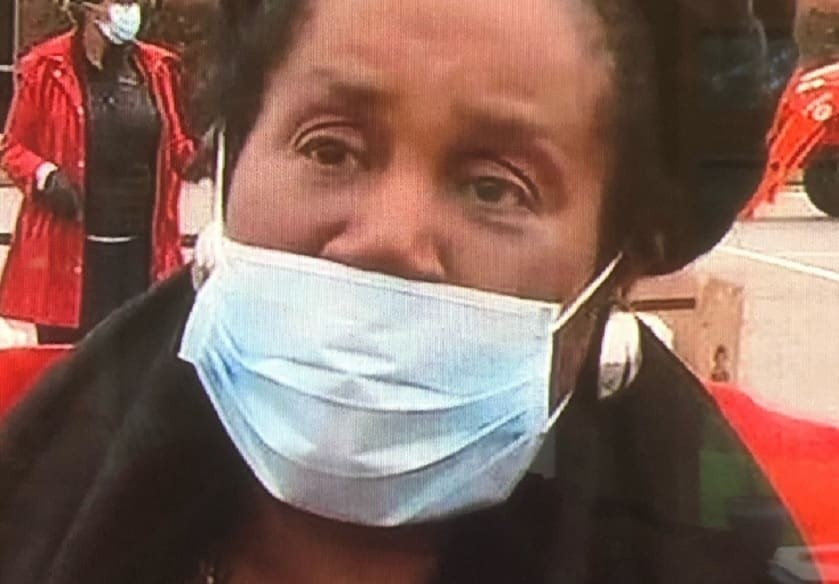face_with_mask: (194, 1, 636, 521), (59, 1, 151, 56)
